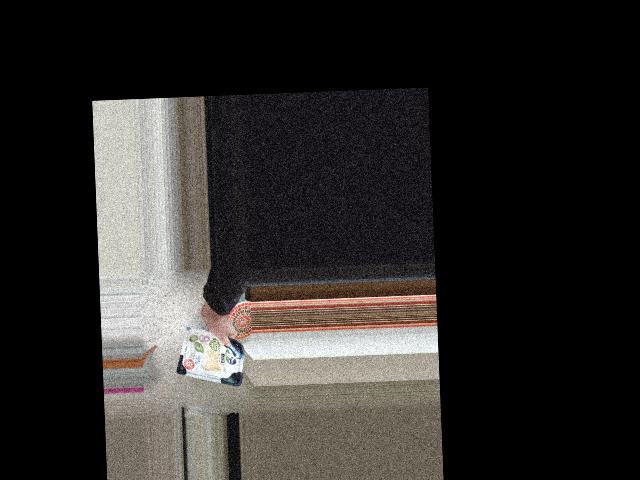cheese: (178, 324, 246, 388)
